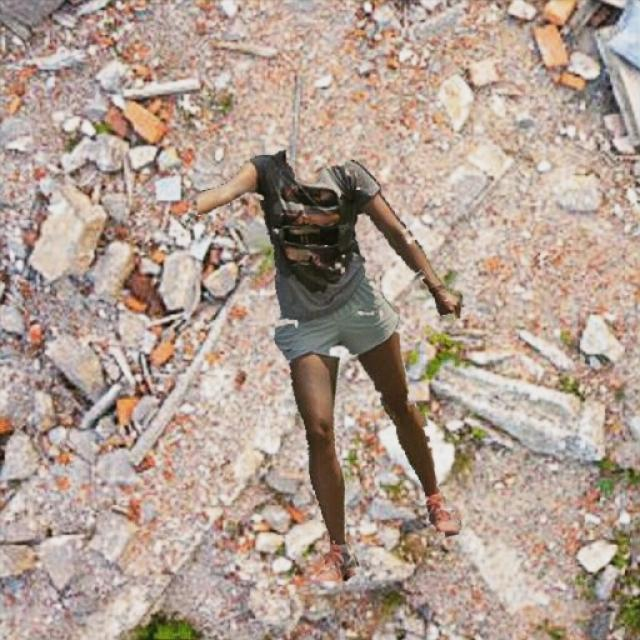Person in Rubble: (198, 150, 462, 580)
